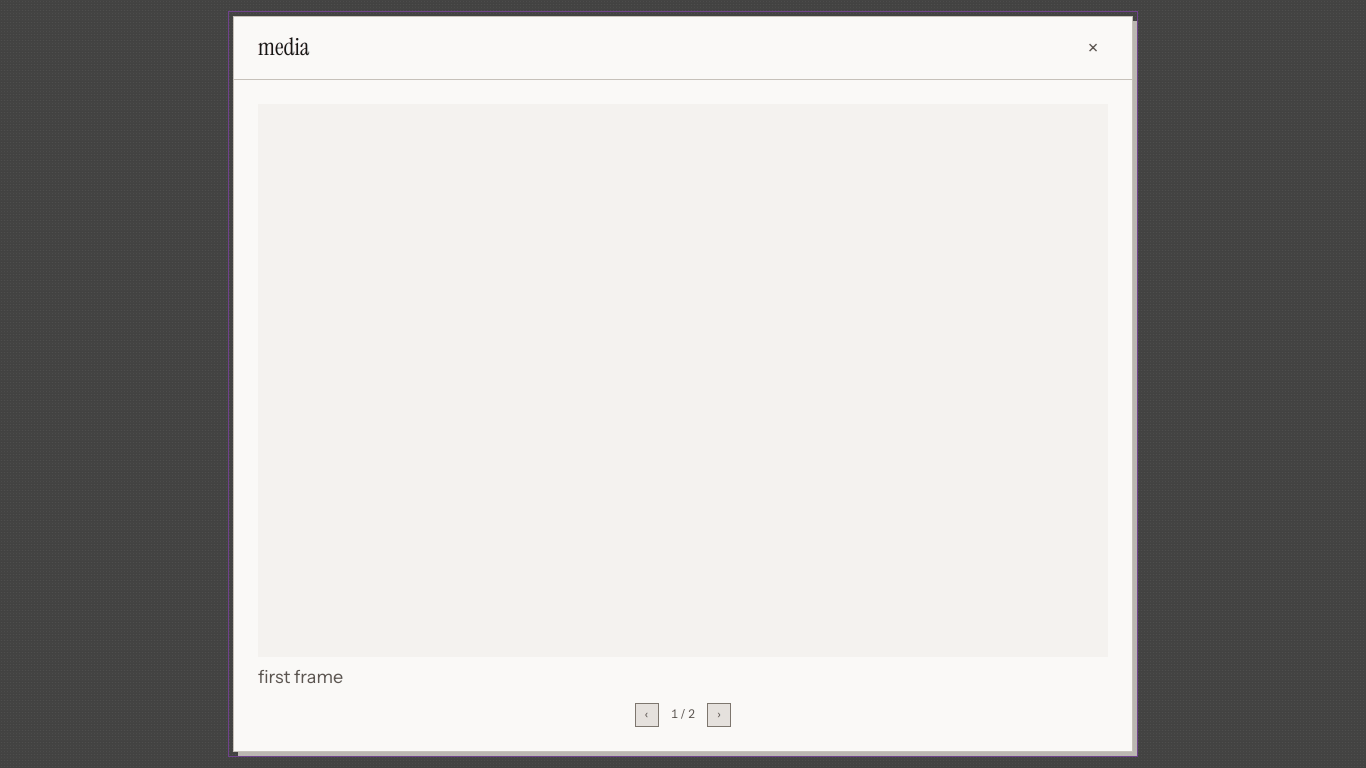
Test: announces the active alt with the count and updates it while navigating
Check: the text with class "b-media-viewer__alt" reads "first frame", box [258,666,343,688]
Click the button named "next image": {"x": 719, "y": 715} [707,703,731,727]
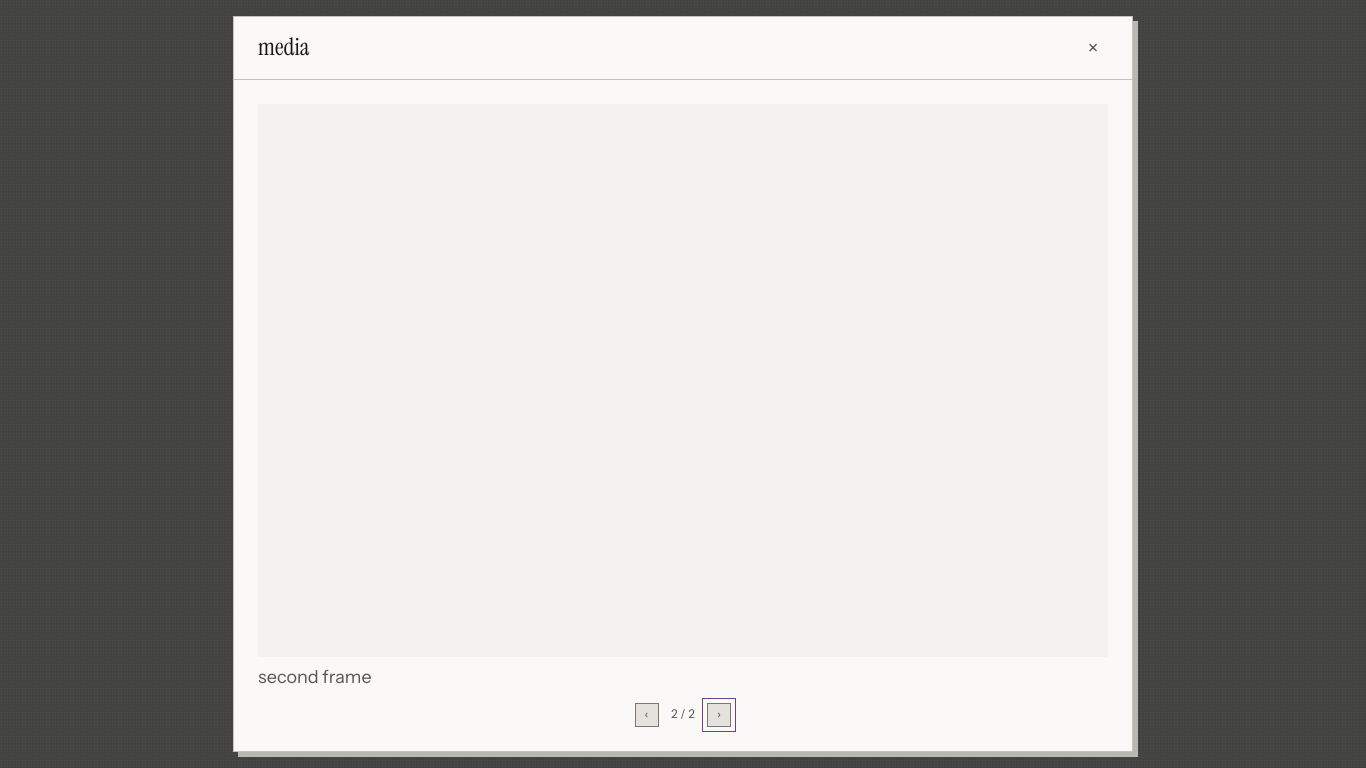
Check: the text with class "b-media-viewer__alt" reads "second frame", box [258,666,372,688]
